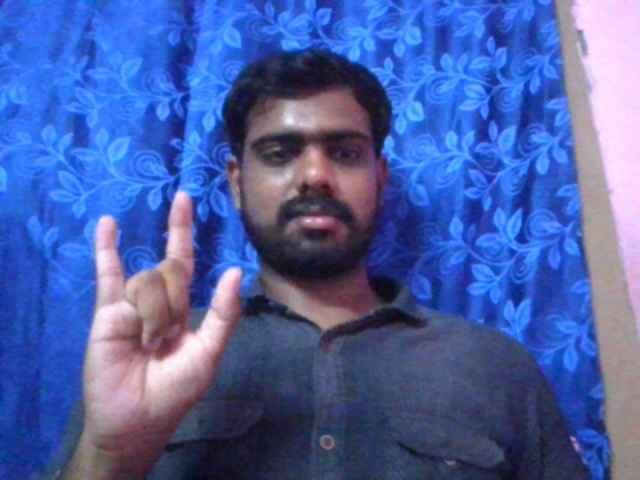IloveYou: (77, 185, 245, 444)
